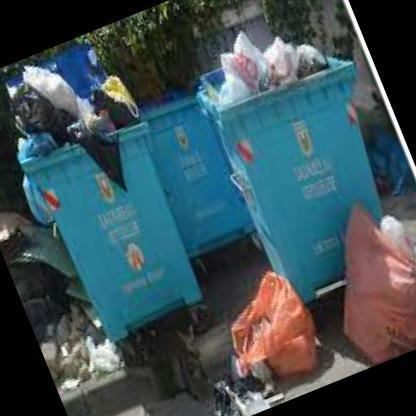Garbage: (167, 264, 332, 415), (308, 198, 415, 369), (0, 44, 138, 171), (205, 25, 330, 111), (208, 40, 274, 104), (1, 84, 56, 145), (34, 57, 80, 118), (262, 38, 300, 81)
